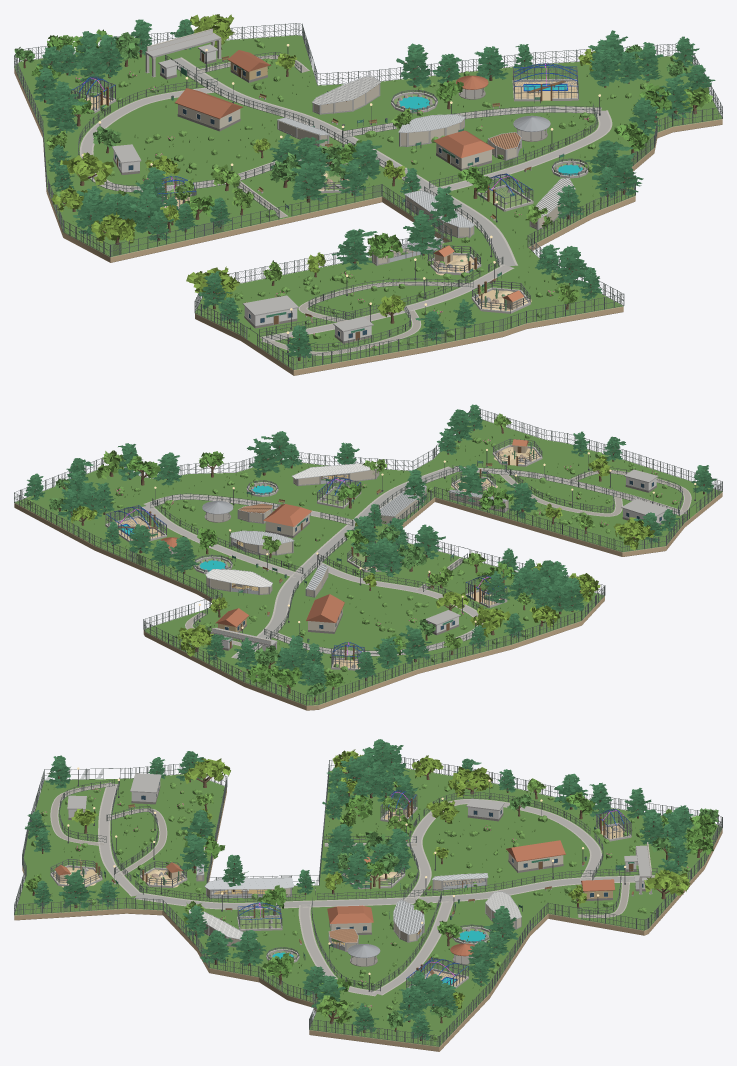
Rendered from zoo_map.glb.
3 views of the same model, one above another, from view 1: azimuth 30°, elevation 25°; view 2: azimuth 150°, elevation 25°; view 3: azimuth 270°, elevation 25° (orthographic). The views are drawn at different scales.
Visible parts, largest first — view 1: PASTO_BASE, BASE_ZOOLOGICO_NICOLAS_BRAVO, CAMINO_AV_PRINCIPAL, REC_RECINTO_ESTE, CAMINO_ANILLO_NOROESTE, EST_ADMINISTRACION, CERCA_CONTORNO_19, REC_RECINTO_RUSTICO_M2_CENTRO_NORTE, EST_CAFETERIA, REC_RECINTO_RUSTICO_M5_CENTRO_SUR, CAMINO_RAMAL_SUROESTE, CAMINO_RAMAL_ESTE_RETORNO (+58 smaller); view 2: PASTO_BASE, BASE_ZOOLOGICO_NICOLAS_BRAVO, CAMINO_AV_PRINCIPAL, CAMINO_ANILLO_NOROESTE, REC_RECINTO_RUSTICO_M4_DIAGONAL, REC_RECINTO_RUSTICO_M2_CENTRO_NORTE, REC_RECINTO_ESTE, EST_CAFETERIA, CERCA_CONTORNO_17, EST_ADMINISTRACION, REC_RECINTO_RUSTICO_M5_CENTRO_SUR, CAMINO_RAMAL_SUROESTE (+46 smaller); view 3: PASTO_BASE, BASE_ZOOLOGICO_NICOLAS_BRAVO, CAMINO_AV_PRINCIPAL, CAMINO_ANILLO_NOROESTE, CAMINO_RAMAL_SUROESTE, EST_ADMINISTRACION, REC_RECINTO_RUSTICO_M7_SUR, CAMINO_RAMAL_ESTE, EST_CAFETERIA, REC_RECINTO_NORTE_CENTRAL, CAMINO_RAMAL_ESTE_RETORNO, REC_RECINTO_RUSTICO_M5_CENTRO_SUR (+48 smaller).
Boxes of the visible parts, <box> form: PASTO_BASE: <box>14,35,722,369</box>; BASE_ZOOLOGICO_NICOLAS_BRAVO: <box>14,68,722,375</box>; CAMINO_AV_PRINCIPAL: <box>172,57,517,266</box>; REC_RECINTO_ESTE: <box>512,63,578,101</box>; CAMINO_ANILLO_NOROESTE: <box>79,86,301,191</box>; EST_ADMINISTRACION: <box>175,88,243,131</box>; CERCA_CONTORNO_19: <box>110,184,381,256</box>; REC_RECINTO_RUSTICO_M2_CENTRO_NORTE: <box>312,76,380,114</box>; EST_CAFETERIA: <box>433,130,494,171</box>; REC_RECINTO_RUSTICO_M5_CENTRO_SUR: <box>398,114,465,146</box>; CAMINO_RAMAL_SUROESTE: <box>260,264,514,342</box>; CAMINO_RAMAL_ESTE_RETORNO: <box>433,110,612,191</box>; PASTO_BASE: <box>15,418,722,705</box>; BASE_ZOOLOGICO_NICOLAS_BRAVO: <box>14,492,722,710</box>; CAMINO_AV_PRINCIPAL: <box>231,466,457,658</box>; CAMINO_ANILLO_NOROESTE: <box>265,561,483,655</box>; REC_RECINTO_RUSTICO_M4_DIAGONAL: <box>292,463,379,485</box>; REC_RECINTO_RUSTICO_M2_CENTRO_NORTE: <box>205,569,272,595</box>; REC_RECINTO_ESTE: <box>105,505,166,541</box>; EST_CAFETERIA: <box>263,504,311,537</box>; CERCA_CONTORNO_17: <box>434,487,622,551</box>; EST_ADMINISTRACION: <box>306,594,344,633</box>; REC_RECINTO_RUSTICO_M5_CENTRO_SUR: <box>230,530,294,555</box>; CAMINO_RAMAL_SUROESTE: <box>454,466,685,515</box>; PASTO_BASE: <box>14,768,721,1046</box>; BASE_ZOOLOGICO_NICOLAS_BRAVO: <box>14,788,722,1051</box>; CAMINO_AV_PRINCIPAL: <box>134,875,654,909</box>; CAMINO_ANILLO_NOROESTE: <box>405,799,601,900</box>; CAMINO_RAMAL_SUROESTE: <box>98,783,140,896</box>; EST_ADMINISTRACION: <box>506,840,565,872</box>; REC_RECINTO_RUSTICO_M7_SUR: <box>204,877,293,898</box>; CAMINO_RAMAL_ESTE: <box>373,898,453,995</box>; EST_CAFETERIA: <box>327,905,373,934</box>; REC_RECINTO_NORTE_CENTRAL: <box>237,902,282,931</box>; CAMINO_RAMAL_ESTE_RETORNO: <box>298,904,379,996</box>; REC_RECINTO_RUSTICO_M5_CENTRO_SUR: <box>393,899,424,942</box>.
Bounding box in the file's own units: 165 × 11.58 × 177.
